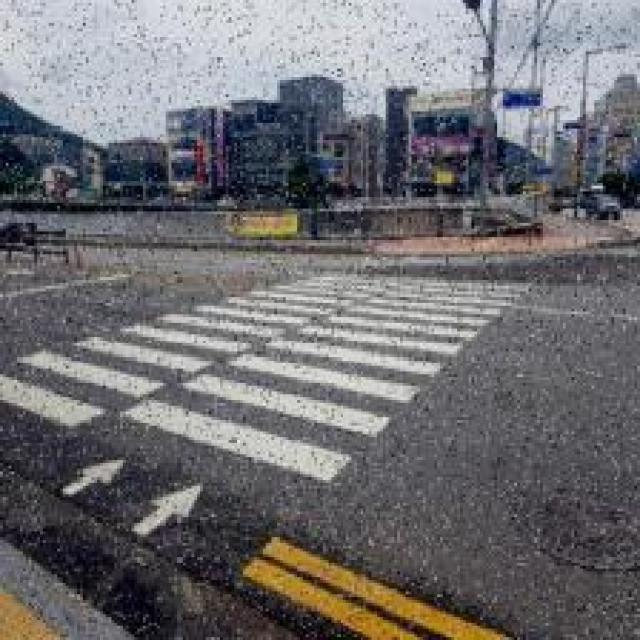walk-crossing: (0, 272, 550, 496)
